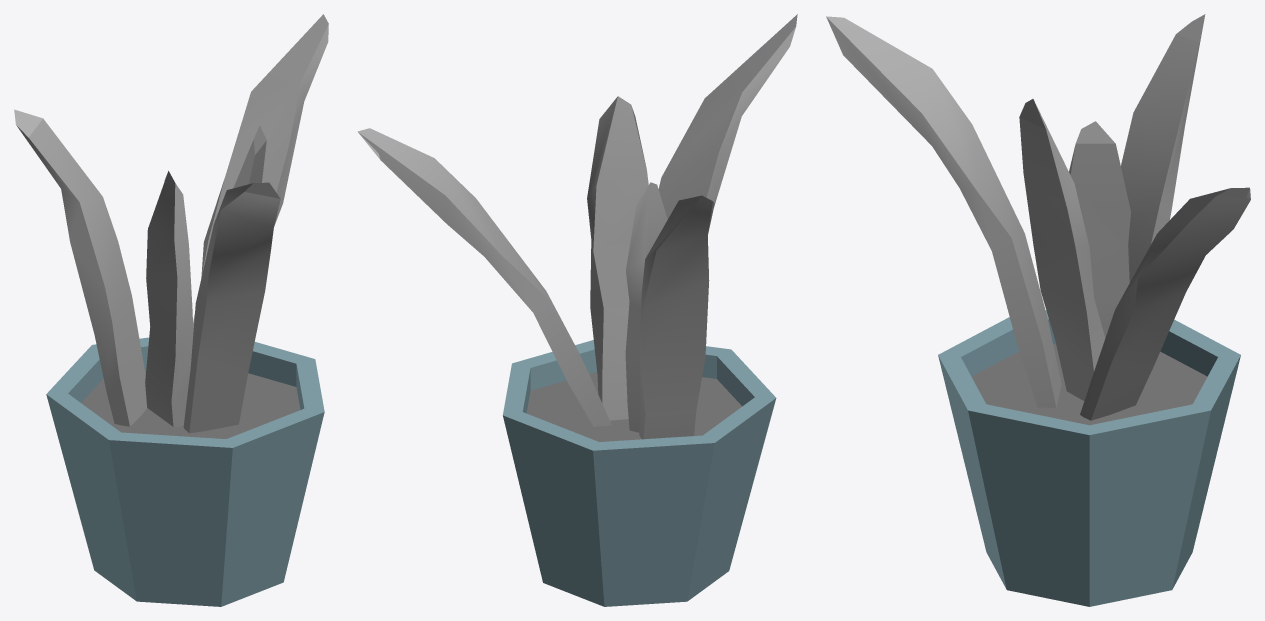
The model's file is Plant.fbx.
3 views of the same model, side by side, from view 1: azimuth 30°, elevation 25°; view 2: azimuth 150°, elevation 25°; view 3: azimuth 270°, elevation 25° (orthographic). The views are drawn at different scales.
Visible parts, largest first — view 1: Plant; view 2: Plant; view 3: Plant.
Boxes of the visible parts, bbox=[...] form: Plant: bbox=[14, 14, 328, 606]; Plant: bbox=[357, 14, 797, 606]; Plant: bbox=[826, 14, 1250, 606].
Size of the model in its own units: 1.01 by 1.39 by 1.03.
